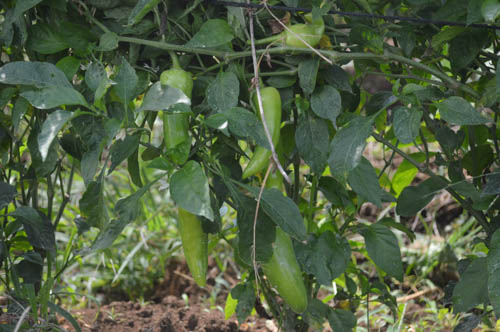ChiliPepper: (242, 90, 281, 183), (258, 234, 305, 310), (160, 72, 195, 153), (175, 207, 208, 290), (284, 15, 325, 52)
